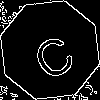C: (25, 25, 79, 83)
